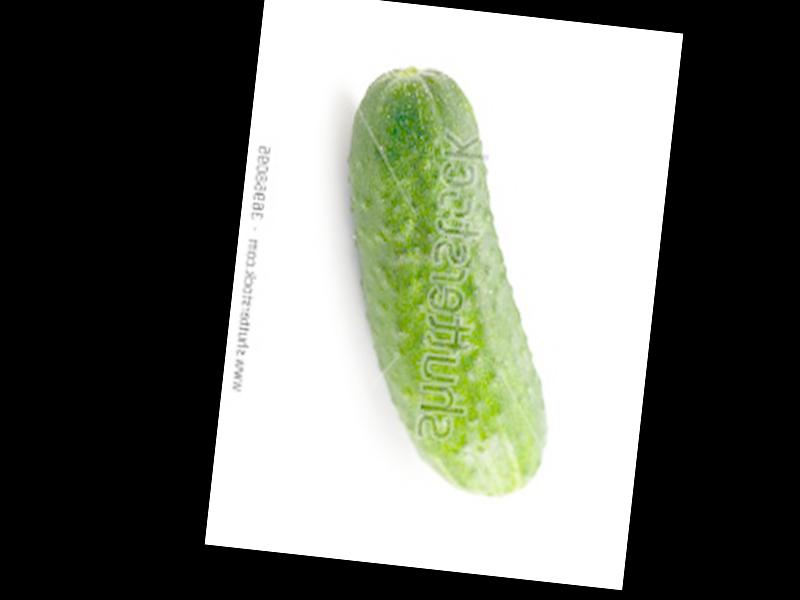Cucumber: (312, 62, 585, 501)
